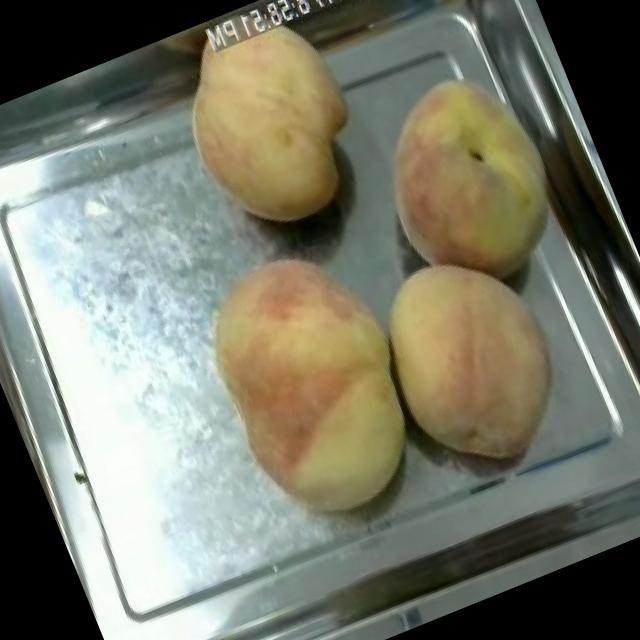Fruit: (170, 218, 452, 548), (342, 41, 597, 322), (347, 225, 592, 498), (144, 0, 390, 256)
